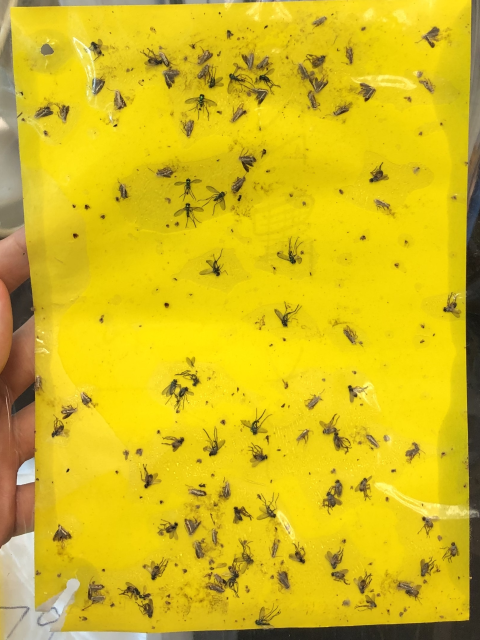DBM: (414, 23, 442, 52), (237, 146, 259, 175), (105, 86, 129, 111), (302, 388, 327, 412), (403, 440, 426, 465), (227, 171, 249, 197), (355, 79, 378, 103), (85, 575, 105, 601), (51, 524, 73, 547), (146, 164, 177, 180), (363, 426, 382, 452), (309, 73, 332, 94), (229, 100, 248, 125), (85, 76, 107, 97), (192, 46, 215, 66), (328, 100, 356, 116), (341, 324, 361, 346), (162, 69, 181, 92), (191, 536, 208, 561), (251, 87, 271, 108), (157, 49, 178, 69), (238, 51, 257, 73), (195, 64, 217, 83), (54, 102, 72, 125), (32, 102, 55, 120), (294, 426, 314, 446), (116, 176, 132, 200), (275, 568, 291, 592), (183, 516, 202, 536), (60, 402, 79, 421), (179, 117, 196, 138), (267, 538, 284, 559), (78, 390, 96, 409), (255, 54, 273, 72), (310, 14, 328, 32), (341, 43, 355, 66), (32, 374, 47, 395), (185, 485, 207, 499), (295, 61, 310, 81), (207, 581, 227, 596), (213, 572, 230, 589), (374, 196, 392, 212), (394, 580, 416, 592), (89, 591, 107, 605), (221, 480, 232, 500), (210, 528, 221, 547)
